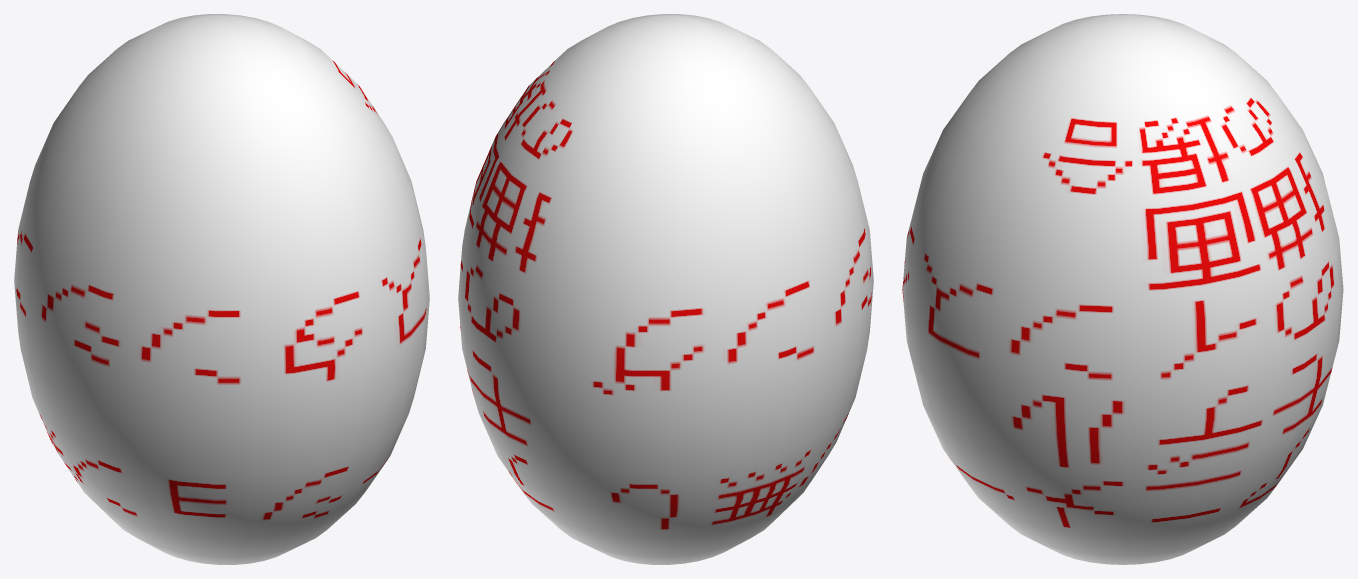
File: sample1.fbx
3 views of the same model, side by side, from view 1: azimuth 30°, elevation 25°; view 2: azimuth 150°, elevation 25°; view 3: azimuth 270°, elevation 25° (orthographic).
Visible parts, largest first — view 1: Sphere001; view 2: Sphere001; view 3: Sphere001.
Part boxes in pixels (left/top/right/bottom): Sphere001: left=14, top=14, right=429, bottom=564; Sphere001: left=458, top=14, right=873, bottom=564; Sphere001: left=902, top=14, right=1343, bottom=564.
Size of the model in its own units: 70.41 by 99.2 by 75.61.
